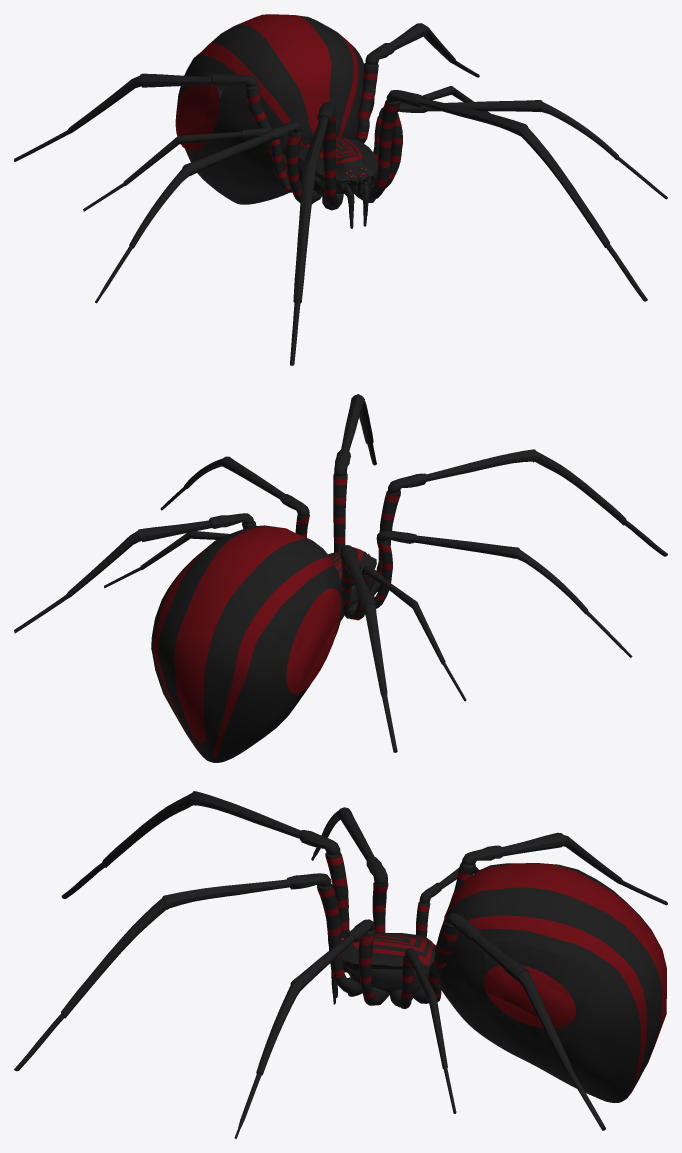
Rendered from orumcek.fbx.
3 views of the same model, one above another, from view 1: azimuth 30°, elevation 25°; view 2: azimuth 150°, elevation 25°; view 3: azimuth 270°, elevation 25° (orthographic). The views are drawn at different scales.
Visible parts, largest first — view 1: black__widow; view 2: black__widow; view 3: black__widow.
Part boxes in pixels (bbox=[...]): black__widow: bbox=[14, 14, 667, 365]; black__widow: bbox=[14, 394, 667, 762]; black__widow: bbox=[14, 791, 667, 1138].
Size of the model in its own units: 389 by 153 by 385.
